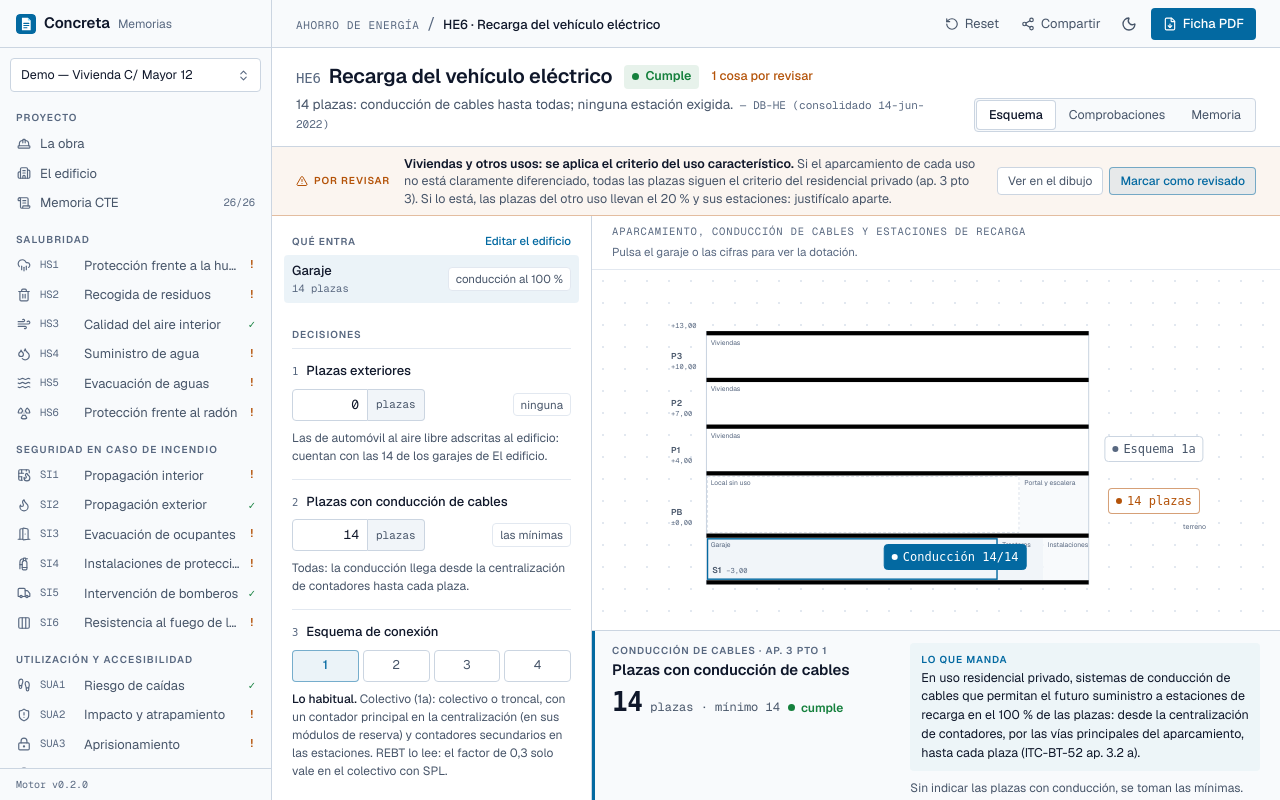
Test: HE 6 · Recarga del vehículo eléctrico (feature-24) › cabecera y decisiones; menos conducción que plazas no cumple
This screenshot has width=1280, height=800.
Expected: the element "Aparcamiento, conducción de cables y estaciones de recarga" is shown, [592, 216, 1279, 799]
Expected: the element "Qué entra" reads "Qué entra Editar el edificio Garaje 14 plazas conducción al 100 %", [292, 216, 571, 307]
Replace the text in the field named "Plazas con conducción" with "7" at (330, 535), box [292, 519, 368, 551]
Then press Enter
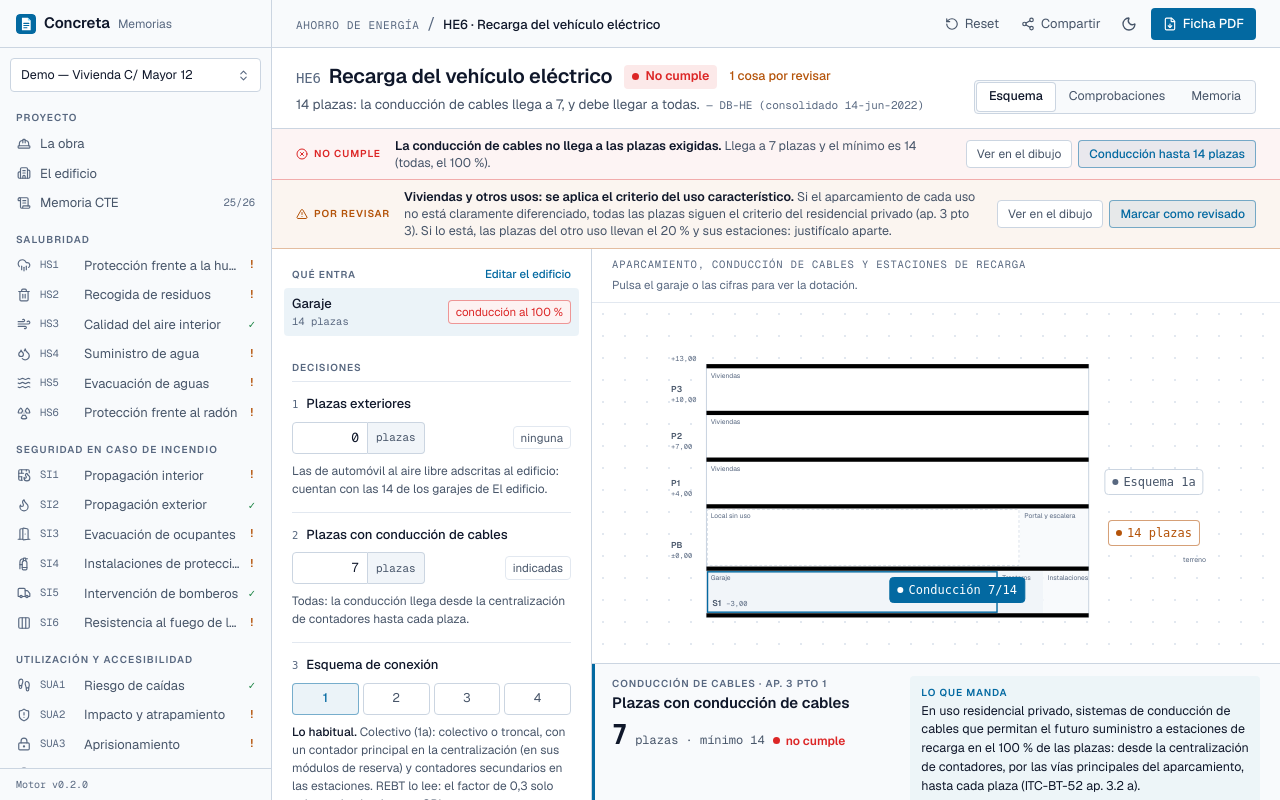
Expected: the element named "Avisos" shows "La conducción de cables no llega a las plazas exigidas.", [395, 137, 721, 154]
